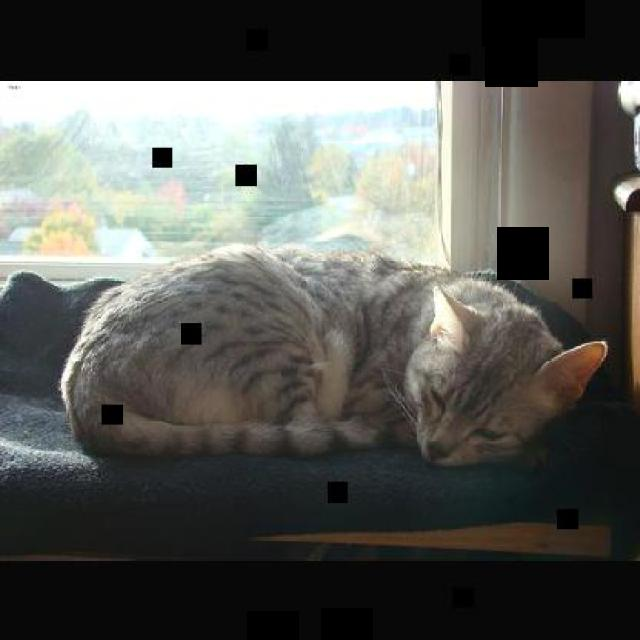unauthorized: (55, 242, 608, 469)
